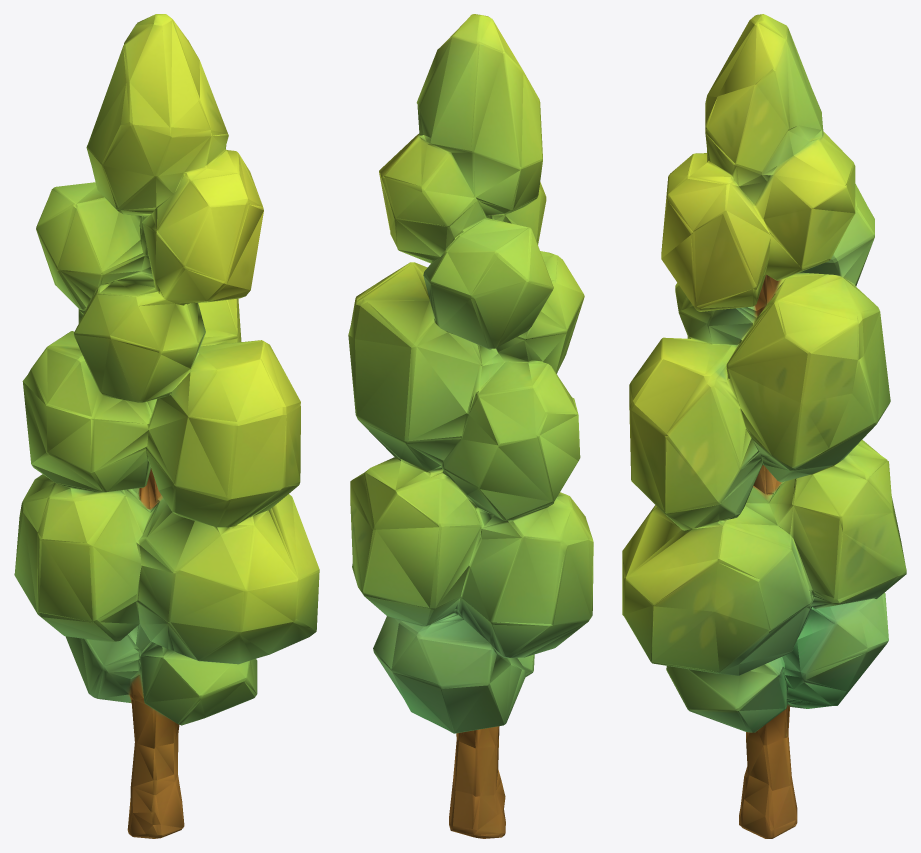
File: prop.glb
3 views of the same model, side by side, from view 1: azimuth 30°, elevation 25°; view 2: azimuth 150°, elevation 25°; view 3: azimuth 270°, elevation 25° (orthographic).
Visible parts, largest first — view 1: tripo_node_391802aa-b0e6-4673-b962-b43ed2fb6746; view 2: tripo_node_391802aa-b0e6-4673-b962-b43ed2fb6746; view 3: tripo_node_391802aa-b0e6-4673-b962-b43ed2fb6746.
Part boxes in pixels (x1,y1,x2,y2): tripo_node_391802aa-b0e6-4673-b962-b43ed2fb6746: (14, 14, 319, 838); tripo_node_391802aa-b0e6-4673-b962-b43ed2fb6746: (348, 14, 593, 838); tripo_node_391802aa-b0e6-4673-b962-b43ed2fb6746: (622, 14, 906, 838).
Size of the model in its own units: 9.16 by 31 by 9.77.
Materials: 1 (1 with a texture image).
